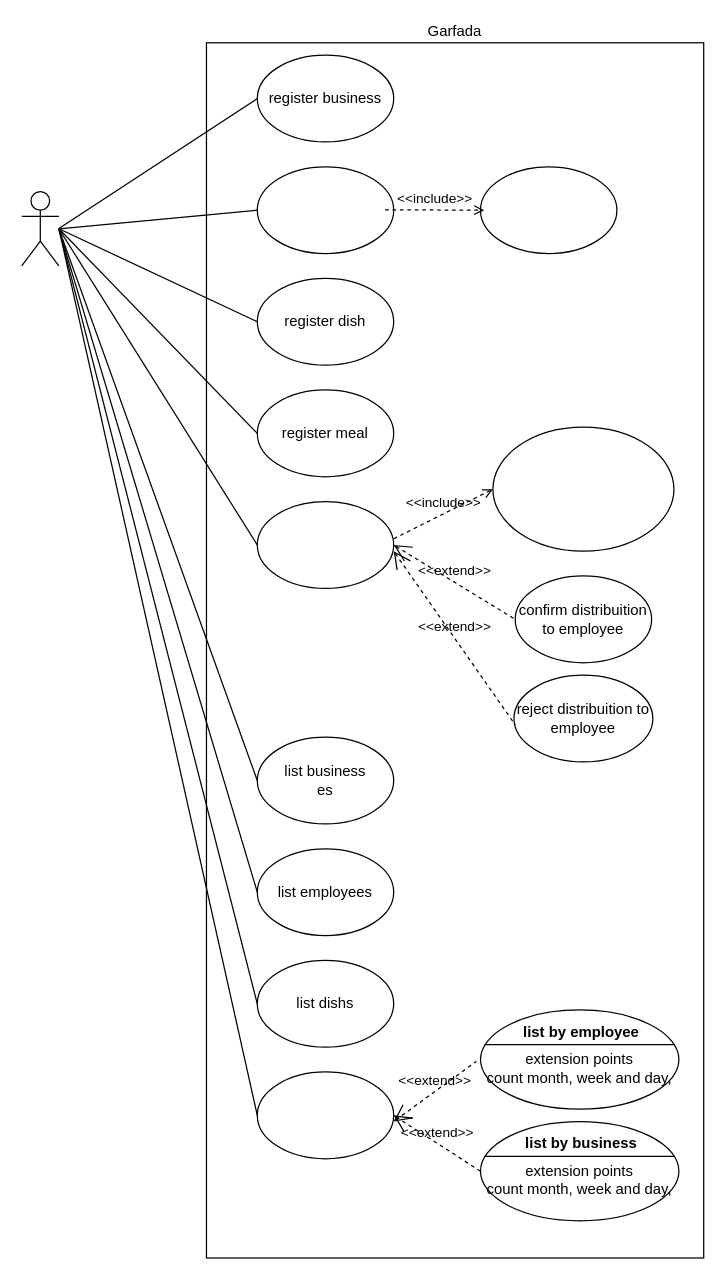
This 725x1280 diagram has some shape labels left out. The box of each missing label's shape, as (x1, y1, x2, y2) in pixels:
associate employee to bussiness: (479, 166, 617, 254)
checks if a packed lunch limit by employee was reached: (492, 426, 674, 551)
list meals: (256, 1071, 394, 1159)
register a packed lunch to employee: (256, 500, 394, 588)
register employee: (256, 166, 394, 254)
User: (20, 190, 59, 266)
